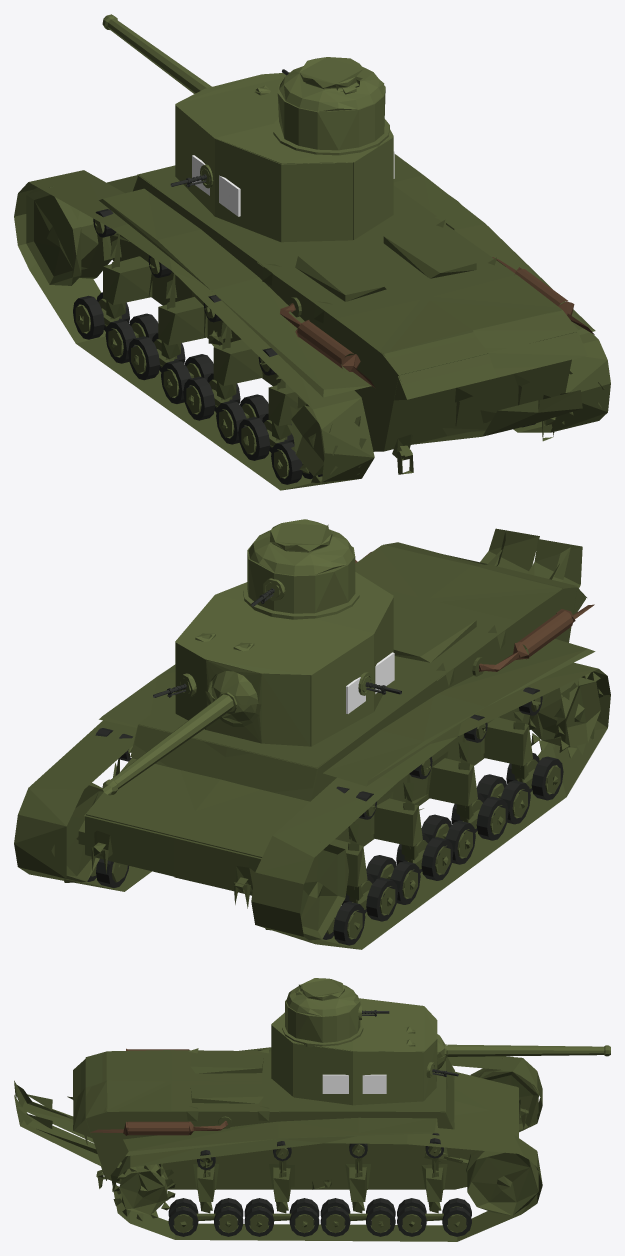
The model's file is tank.glb.
3 views of the same model, one above another, from view 1: azimuth 30°, elevation 25°; view 2: azimuth 150°, elevation 25°; view 3: azimuth 270°, elevation 25° (orthographic). The views are drawn at different scales.
Visible parts, largest first — view 1: hull, turret, barrel, marking; view 2: hull, turret, barrel, marking; view 3: hull, turret, barrel, marking.
Boxes of the visible parts, <box> form: hull: <box>14,154,610,490</box>; turret: <box>170,57,393,242</box>; barrel: <box>102,14,211,93</box>; marking: <box>192,151,394,216</box>; hull: <box>14,528,610,949</box>; turret: <box>153,519,401,746</box>; barrel: <box>102,694,233,795</box>; marking: <box>346,652,394,713</box>; hull: <box>14,1047,542,1241</box>; turret: <box>271,978,458,1105</box>; barrel: <box>447,1044,610,1056</box>; marking: <box>322,1074,386,1093</box>.
Size of what is drawn, in the model's own units: 2.85 by 2.93 by 7.46.
